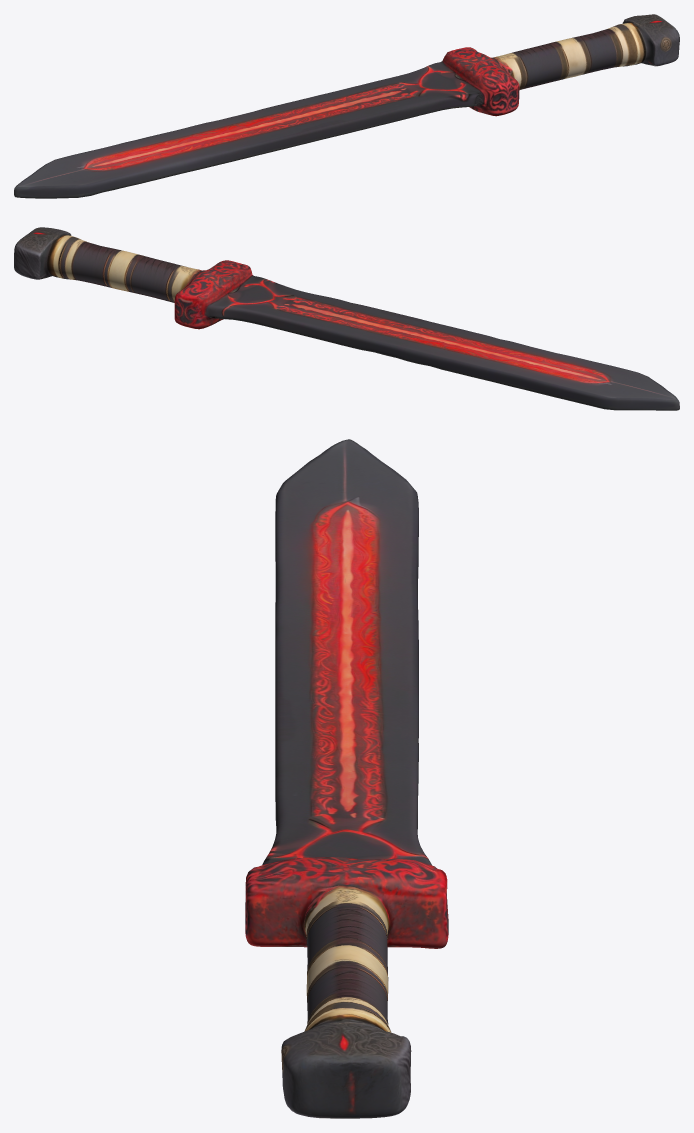
The model's file is Cyberblade_Radiance_1129132550_texture.fbx.
The picture shows the model from 3 angles, top to bottom: view 1: azimuth 30°, elevation 25°; view 2: azimuth 150°, elevation 25°; view 3: azimuth 270°, elevation 25°; orthographic projection. The views are drawn at different scales.
Visible parts, largest first — view 1: Mesh0; view 2: Mesh0; view 3: Mesh0.
Part boxes in pixels (x1,y1,x2,y2): Mesh0: [14, 14, 679, 198]; Mesh0: [14, 227, 679, 410]; Mesh0: [245, 439, 448, 1118].
Size of the model in its own units: 868 by 50 by 117.
Materials: 1 (1 with a texture image).
